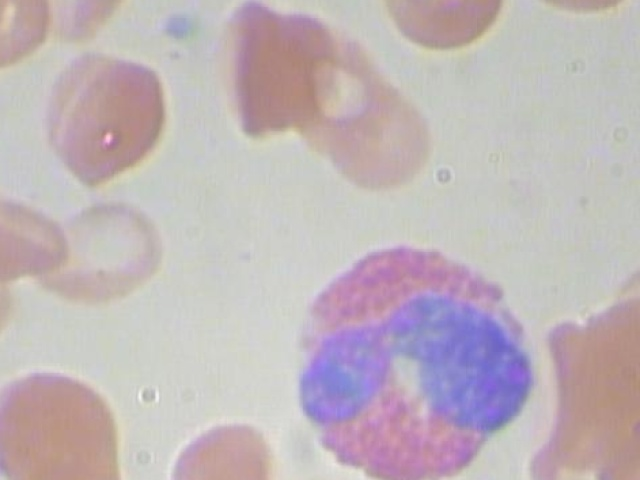Platelets: (156, 4, 208, 51)
RBC: (32, 40, 184, 193), (27, 184, 176, 319), (208, 0, 348, 142), (0, 359, 136, 480), (319, 60, 435, 201), (149, 405, 290, 480), (0, 167, 74, 291), (581, 280, 640, 432), (372, 0, 515, 58), (0, 431, 151, 480), (0, 0, 64, 77), (587, 405, 640, 480), (406, 470, 549, 480), (0, 0, 10, 62)
WBC: (269, 238, 554, 480)
